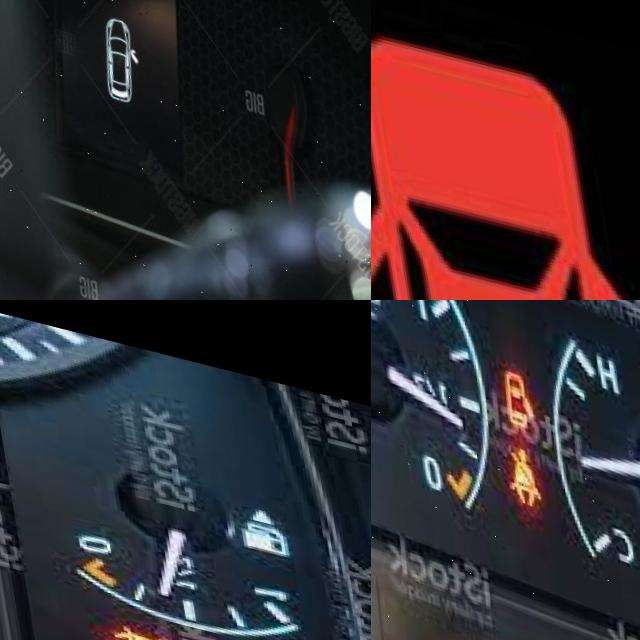Seat Belt: (490, 428, 533, 496), (91, 609, 167, 640)
